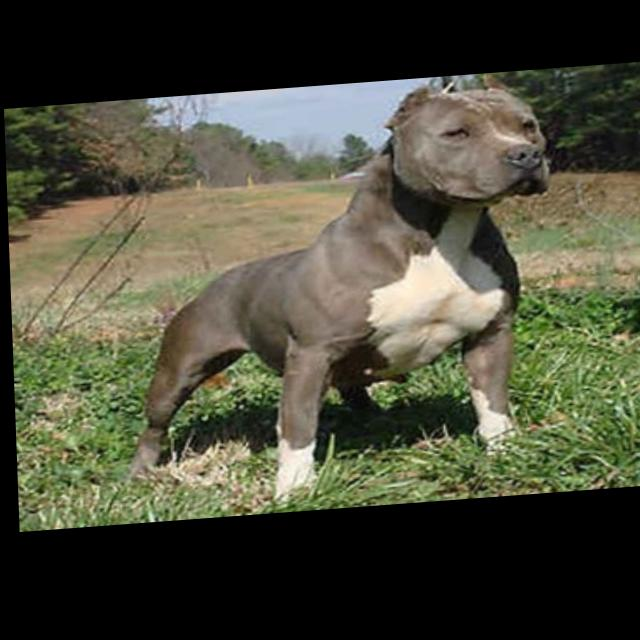am_pit_bull_terrier: (113, 77, 558, 517)
